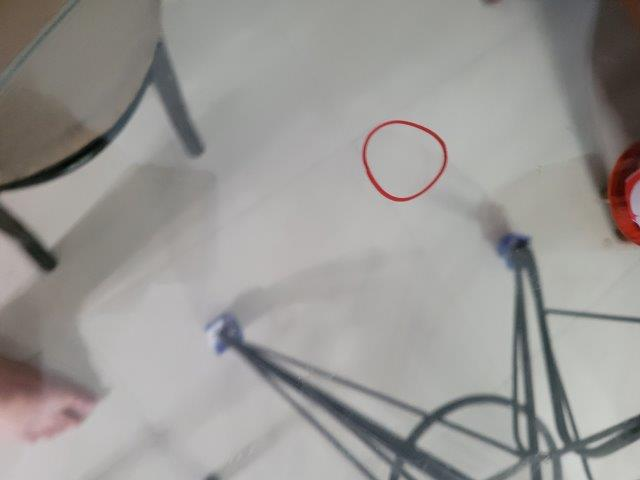karet: (361, 121, 448, 202)
